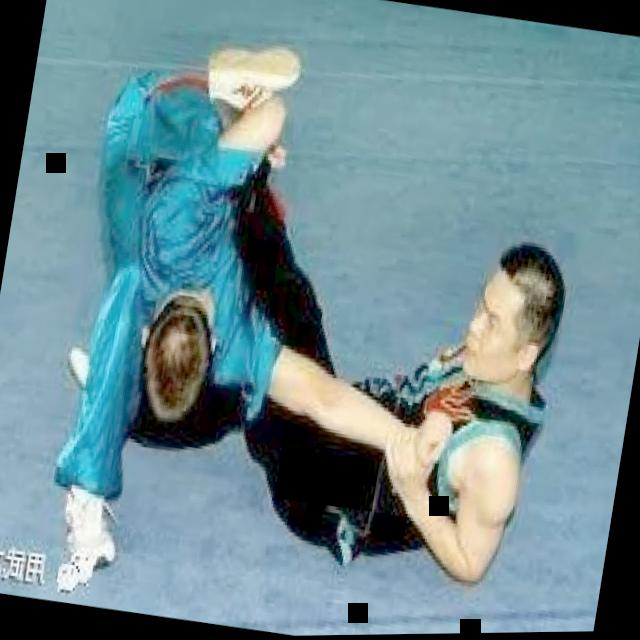Fall-Detected: (62, 25, 576, 613)
